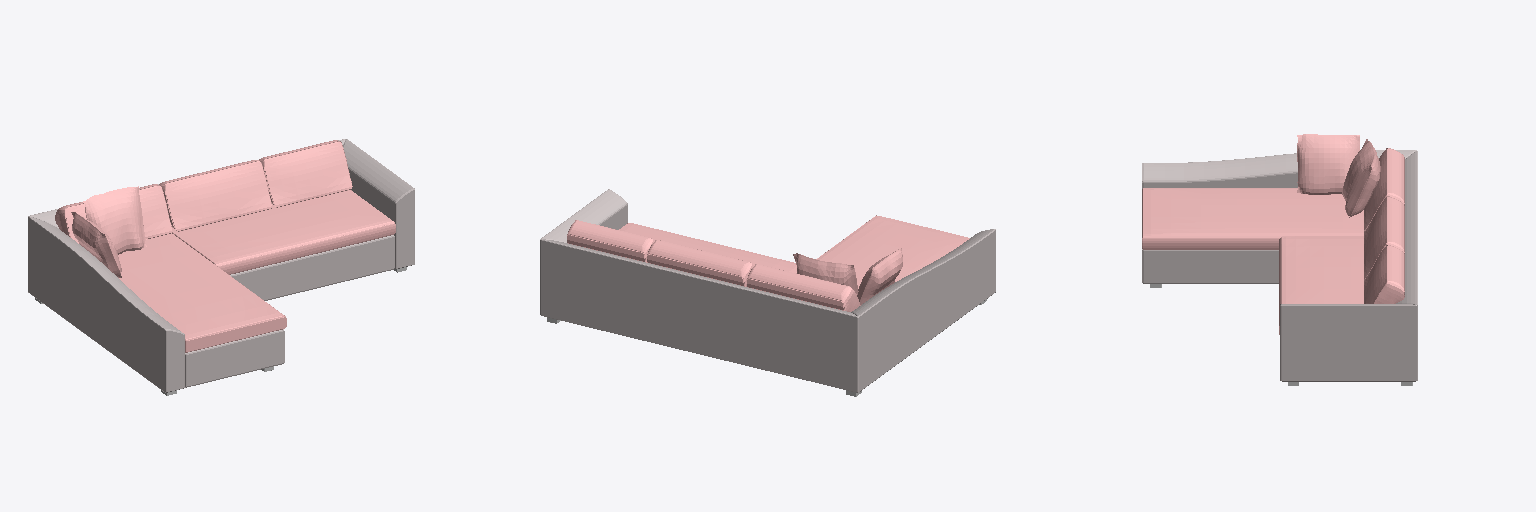
Rendered from Sofa_3_3ds.obj.
The picture shows the model from 3 angles: view 1: azimuth 30°, elevation 25°; view 2: azimuth 150°, elevation 25°; view 3: azimuth 270°, elevation 25°; orthographic projection.
Parts seen in each view (by area): view 1: Object08_4, Object14_10, Object09_6, Object15_7, Object1_0, Object16_12, Object03_1, Object06_2, Plane05_9, Object13_7, Plane04_8; view 2: Object07_3, Object08_4, Object14_10, Object13_7, Object15_7, Object16_12, Object09_6, Object03_1, Plane04_8, Plane05_9; view 3: Object14_10, Object03_1, Object09_6, Object06_2, Object08_4, Plane04_8, Object15_7, Object07_3, Object16_12, Plane05_9, Object13_7.
Part boxes in pixels (x1,y1,x2,y2): Object08_4: (28, 217, 184, 392); Object14_10: (118, 233, 286, 352); Object09_6: (172, 190, 395, 274); Object15_7: (159, 160, 271, 231); Object1_0: (230, 235, 394, 300); Object16_12: (259, 140, 352, 207); Object03_1: (343, 139, 414, 268); Object06_2: (185, 329, 284, 387); Plane05_9: (83, 186, 146, 254); Object13_7: (55, 184, 171, 243); Plane04_8: (71, 212, 121, 277); Object07_3: (540, 239, 857, 392); Object08_4: (851, 229, 995, 392); Object14_10: (816, 215, 969, 288); Object13_7: (747, 264, 860, 311); Object15_7: (647, 240, 753, 286); Object16_12: (567, 220, 654, 262); Object09_6: (619, 223, 796, 273); Object03_1: (540, 189, 627, 242); Plane04_8: (857, 248, 902, 304); Plane05_9: (793, 253, 858, 294); Object14_10: (1142, 188, 1363, 249); Object03_1: (1280, 304, 1417, 381); Object09_6: (1279, 236, 1363, 334); Object06_2: (1142, 249, 1278, 283); Object08_4: (1142, 150, 1416, 188); Plane04_8: (1297, 134, 1359, 194); Object15_7: (1364, 197, 1404, 280); Object07_3: (1396, 151, 1417, 305); Object16_12: (1364, 245, 1404, 303); Plane05_9: (1342, 139, 1380, 217); Object13_7: (1364, 148, 1404, 231).
Size of the model in its own units: 96 by 31.6 by 72.05.